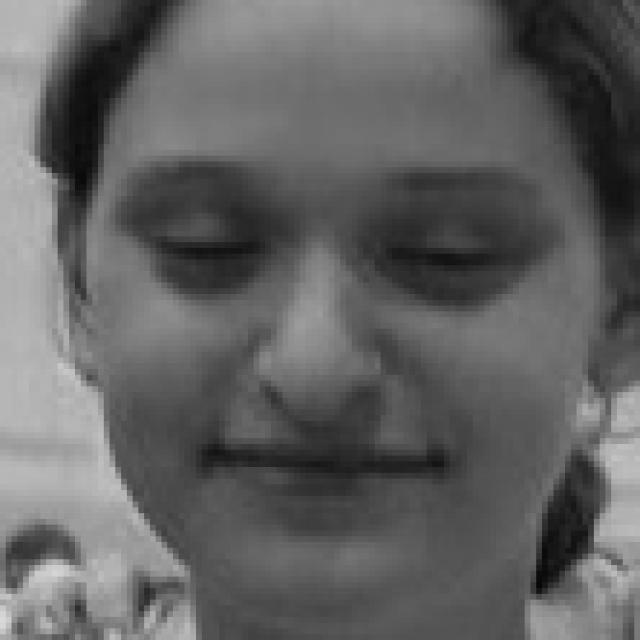real: (78, 43, 584, 620), (164, 180, 544, 325)
